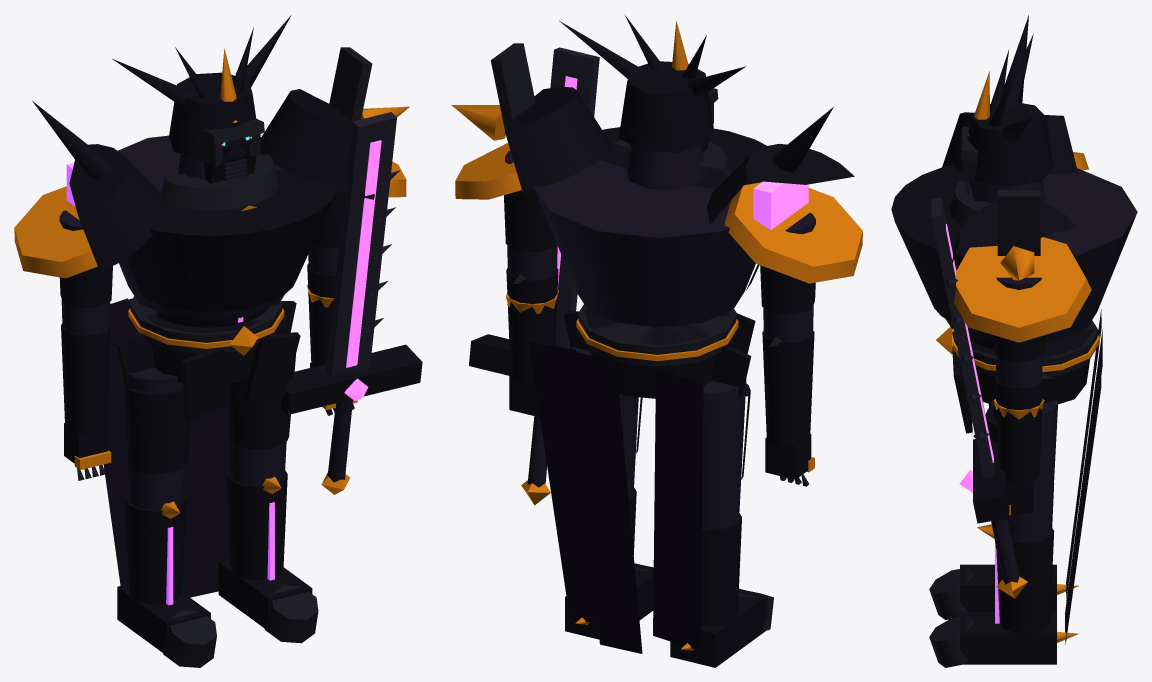
File: abyss_warden.glb
The picture shows the model from 3 angles, left to right: view 1: azimuth 30°, elevation 25°; view 2: azimuth 150°, elevation 25°; view 3: azimuth 270°, elevation 25°; orthographic projection. The views are drawn at different scales.
Parts seen in each view (by area): view 1: Chest, Hips, WeaponSocket, RightCalf, LeftCalf, Head, LeftThigh, RightThigh, LeftForearm, LeftUpperArm, RightForearm, RightUpperArm (+2 smaller); view 2: Chest, Hips, Head, LeftCalf, WeaponSocket, LeftThigh, LeftForearm, RightForearm, RightUpperArm, LeftUpperArm, Neck, RightCalf (+3 smaller); view 3: Chest, RightCalf, Head, Hips, WeaponSocket, RightForearm, RightThigh, LeftCalf, RightUpperArm, RightHand, Neck.
Part boxes in pixels (x1,y1,x2,y2): Chest: [14, 47, 409, 320]; Hips: [103, 296, 300, 597]; WeaponSocket: [281, 112, 422, 494]; RightCalf: [218, 470, 318, 643]; LeftCalf: [117, 495, 216, 667]; Head: [112, 15, 291, 183]; LeftThigh: [121, 366, 191, 509]; RightThigh: [225, 355, 295, 485]; LeftForearm: [61, 323, 110, 435]; LeftUpperArm: [59, 210, 112, 335]; RightForearm: [306, 263, 336, 367]; RightUpperArm: [308, 191, 344, 275]; Chest: [451, 43, 862, 327]; Hips: [529, 304, 755, 653]; Head: [559, 14, 745, 152]; LeftCalf: [670, 513, 773, 667]; WeaponSocket: [469, 47, 599, 505]; LeftThigh: [702, 379, 750, 528]; LeftForearm: [762, 330, 814, 446]; RightForearm: [506, 268, 558, 384]; RightUpperArm: [504, 150, 557, 284]; LeftUpperArm: [760, 212, 815, 346]; Neck: [626, 144, 705, 190]; RightCalf: [565, 487, 653, 639]; Chest: [891, 15, 1137, 342]; RightCalf: [929, 524, 1078, 667]; Head: [960, 34, 1053, 201]; Hips: [936, 309, 1102, 644]; WeaponSocket: [931, 197, 1027, 598]; RightForearm: [993, 377, 1044, 484]; RightThigh: [985, 400, 1058, 541]; LeftCalf: [929, 483, 1078, 619]; RightUpperArm: [993, 277, 1055, 387]; RightHand: [1002, 480, 1033, 520]; Neck: [984, 180, 1045, 204].
Bounding box in the file's own units: 9.17 × 13.36 × 5.22.
